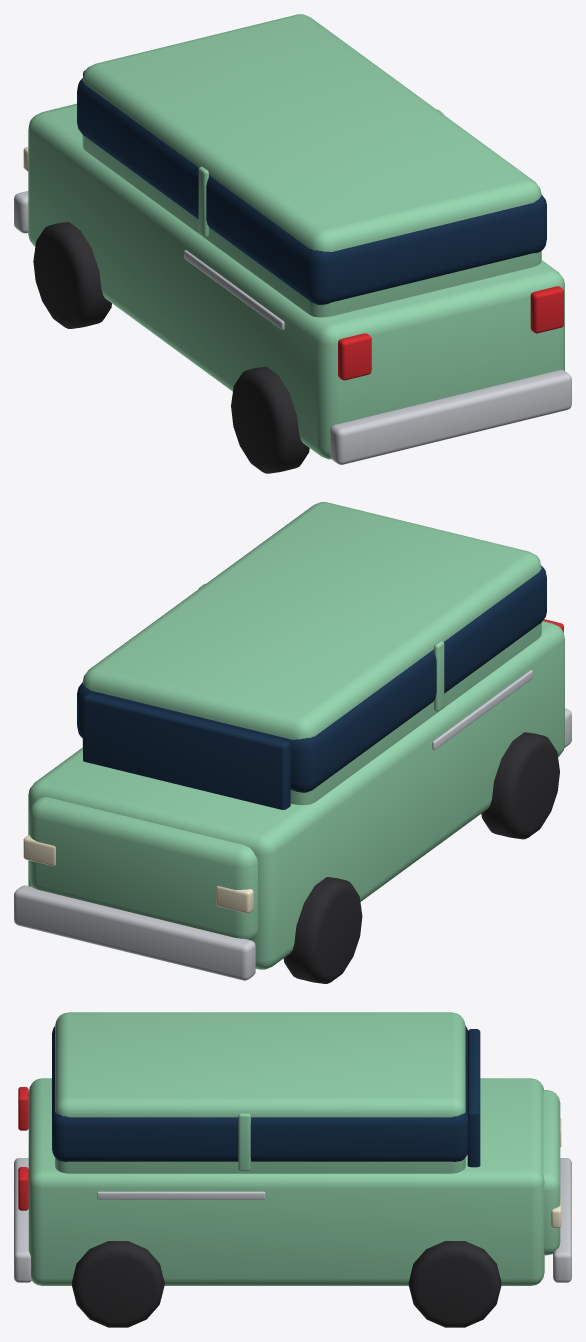
The model's file is minivan-mint.glb.
The picture shows the model from 3 angles, top to bottom: view 1: azimuth 30°, elevation 25°; view 2: azimuth 150°, elevation 25°; view 3: azimuth 270°, elevation 25°; orthographic projection. The views are drawn at different scales.
Parts seen in each view (by area): view 1: Van_Cabin, Van_Body, Van_GlassBand, Van_BumpR, Wheel_van2, Wheel_van0, Van_Tail_0, Van_Tail_1, Van_SlideRail_-1, Van_Bpil_-1, Van_BumpF; view 2: Van_Cabin, Van_Body, Van_Nose, Van_Windshield, Van_GlassBand, Van_BumpF, Wheel_van2, Wheel_van0, Van_SlideRail_-1, Van_Light_0, Van_Light_1, Van_Bpil_-1; view 3: Van_Body, Van_Cabin, Van_GlassBand, Wheel_van1, Wheel_van3, Van_Nose, Van_Windshield, Van_BumpF, Van_SlideRail_+1, Van_BumpR, Van_Bpil_+1, Van_Tail_0 (+1 smaller).
Part boxes in pixels (box(x1,y1,x2,y2)): Van_Cabin: box(82, 14, 541, 317); Van_Body: box(28, 104, 564, 459); Van_GlassBand: box(77, 78, 546, 304); Van_BumpR: box(330, 369, 571, 464); Wheel_van2: box(231, 366, 309, 473); Wheel_van0: box(33, 222, 111, 328); Van_Tail_0: box(338, 333, 371, 380); Van_Tail_1: box(530, 286, 563, 333); Van_SlideRail_-1: box(184, 250, 284, 330); Van_Bpil_-1: box(198, 166, 208, 237); Van_BumpF: box(14, 191, 28, 233); Van_Cabin: box(82, 502, 541, 804); Van_Body: box(28, 621, 564, 969); Van_Nose: box(29, 797, 257, 940); Van_Windshield: box(83, 693, 290, 809); Van_GlassBand: box(77, 565, 546, 792); Van_BumpF: box(14, 885, 255, 980); Wheel_van2: box(481, 732, 559, 839); Wheel_van0: box(283, 877, 362, 983); Van_SlideRail_-1: box(432, 670, 532, 750); Van_Light_0: box(216, 886, 253, 913); Van_Light_1: box(23, 835, 55, 866); Van_Bpil_-1: box(434, 641, 444, 711); Van_Body: box(28, 1078, 544, 1285); Van_Cabin: box(55, 1012, 465, 1173); Van_GlassBand: box(52, 1026, 468, 1161); Wheel_van1: box(408, 1241, 501, 1327); Wheel_van3: box(72, 1241, 164, 1327); Van_Nose: box(543, 1090, 560, 1255); Van_Windshield: box(467, 1029, 480, 1167); Van_BumpF: box(553, 1158, 571, 1282); Van_SlideRail_+1: box(97, 1191, 265, 1199); Van_BumpR: box(14, 1158, 31, 1282); Van_Bpil_+1: box(238, 1113, 250, 1171); Van_Tail_0: box(18, 1087, 28, 1130).
Bounding box in the file's own units: 2.65 × 2.26 × 5.3.
